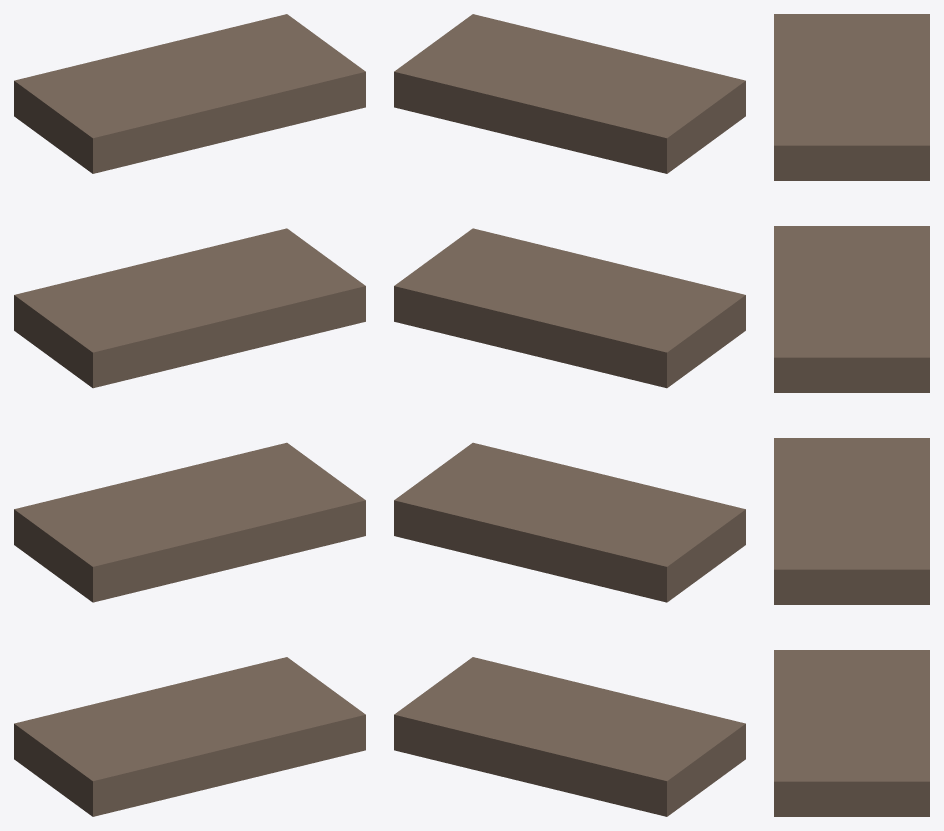
File: wardrobe_modular_02.fbx
The picture shows the model from 3 angles, left to right: view 1: azimuth 30°, elevation 25°; view 2: azimuth 150°, elevation 25°; view 3: azimuth 270°, elevation 25°; orthographic projection.
Visible parts, largest first — view 1: wardrobe_modular_02_0; view 2: wardrobe_modular_02_0; view 3: wardrobe_modular_02_0.
Boxes of the visible parts, box(x1,y1,x2,y2) form: wardrobe_modular_02_0: box(14, 14, 365, 816); wardrobe_modular_02_0: box(394, 14, 745, 816); wardrobe_modular_02_0: box(774, 14, 929, 816).
Size of the model in its own units: 800 by 400 by 1900.
